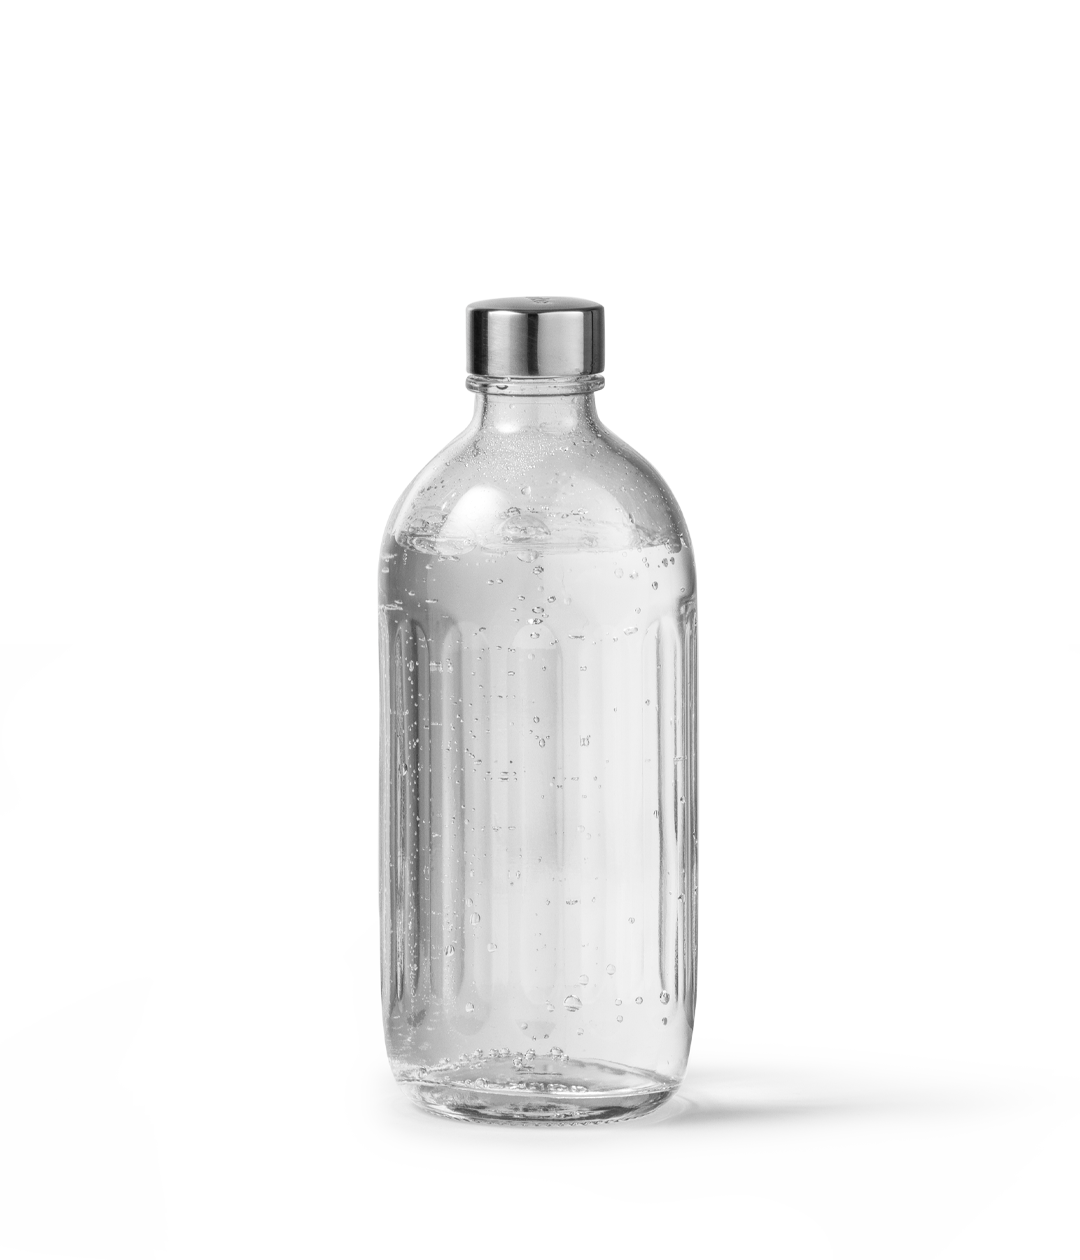glass_bottle: (329, 260, 766, 1167)
